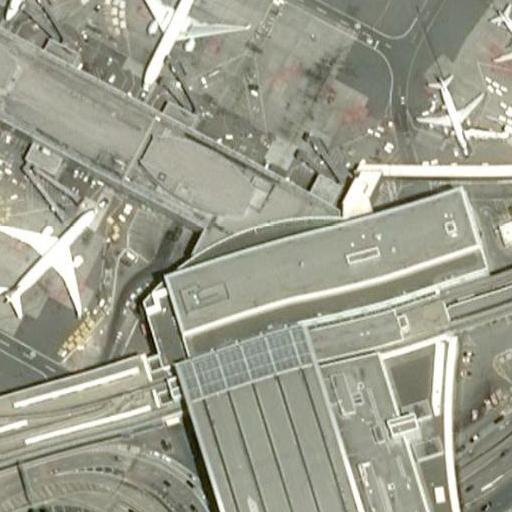Aircraft: (0, 202, 99, 323), (125, 0, 251, 92), (418, 74, 487, 156), (0, 0, 114, 20), (487, 2, 512, 78)
